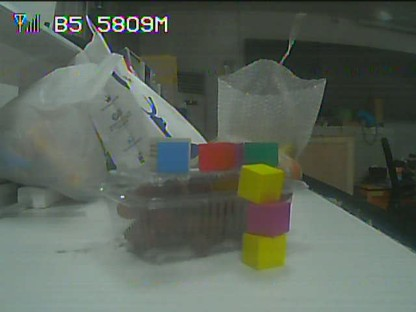b: (158, 144, 188, 172)
g: (245, 143, 277, 163)
r: (199, 143, 234, 169)
